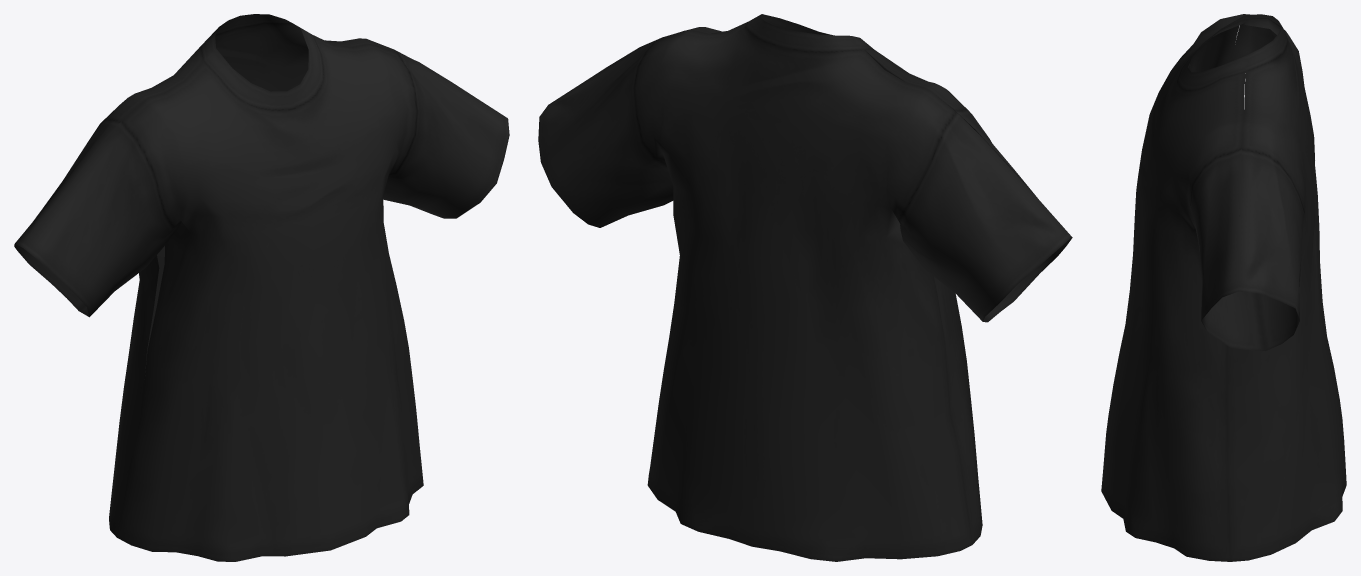
Rendered from black.glb.
3 views of the same model, side by side, from view 1: azimuth 30°, elevation 25°; view 2: azimuth 150°, elevation 25°; view 3: azimuth 270°, elevation 25° (orthographic). The views are drawn at different scales.
Visible parts, largest first — view 1: Body.014; view 2: Body.014; view 3: Body.014.
Part boxes in pixels (x1,y1,x2,y2): Body.014: (14,14,509,561); Body.014: (538,14,1072,561); Body.014: (1101,14,1346,561).
Bounding box in the file's own units: 0.7679 × 0.704 × 0.3368.
Materials: 1 (1 with a texture image).
